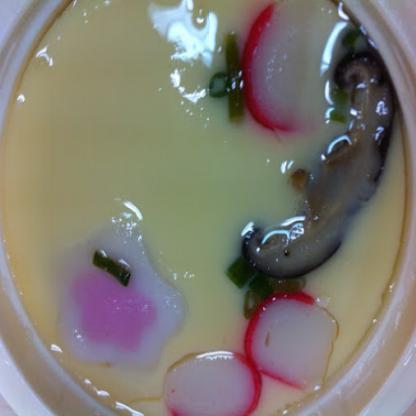Kaithoon: (10, 0, 405, 415)
